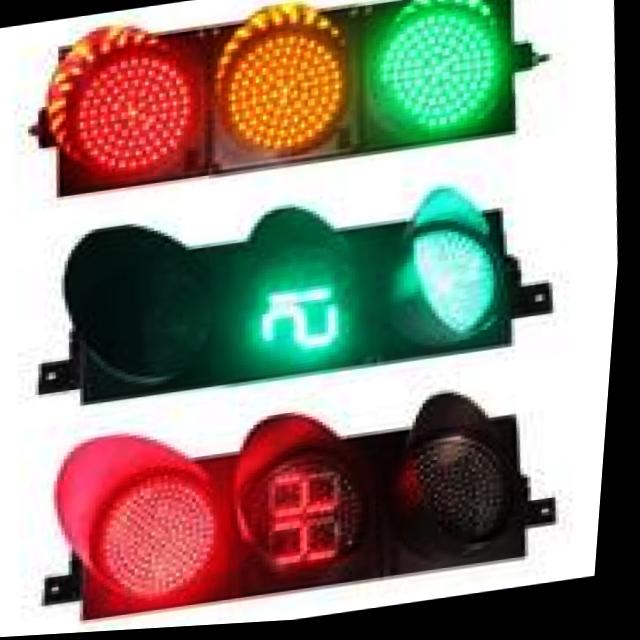green_light: (345, 0, 556, 183), (379, 218, 538, 379)
red_light: (46, 0, 231, 218), (75, 433, 248, 635)
yellow_light: (201, 0, 380, 183)
